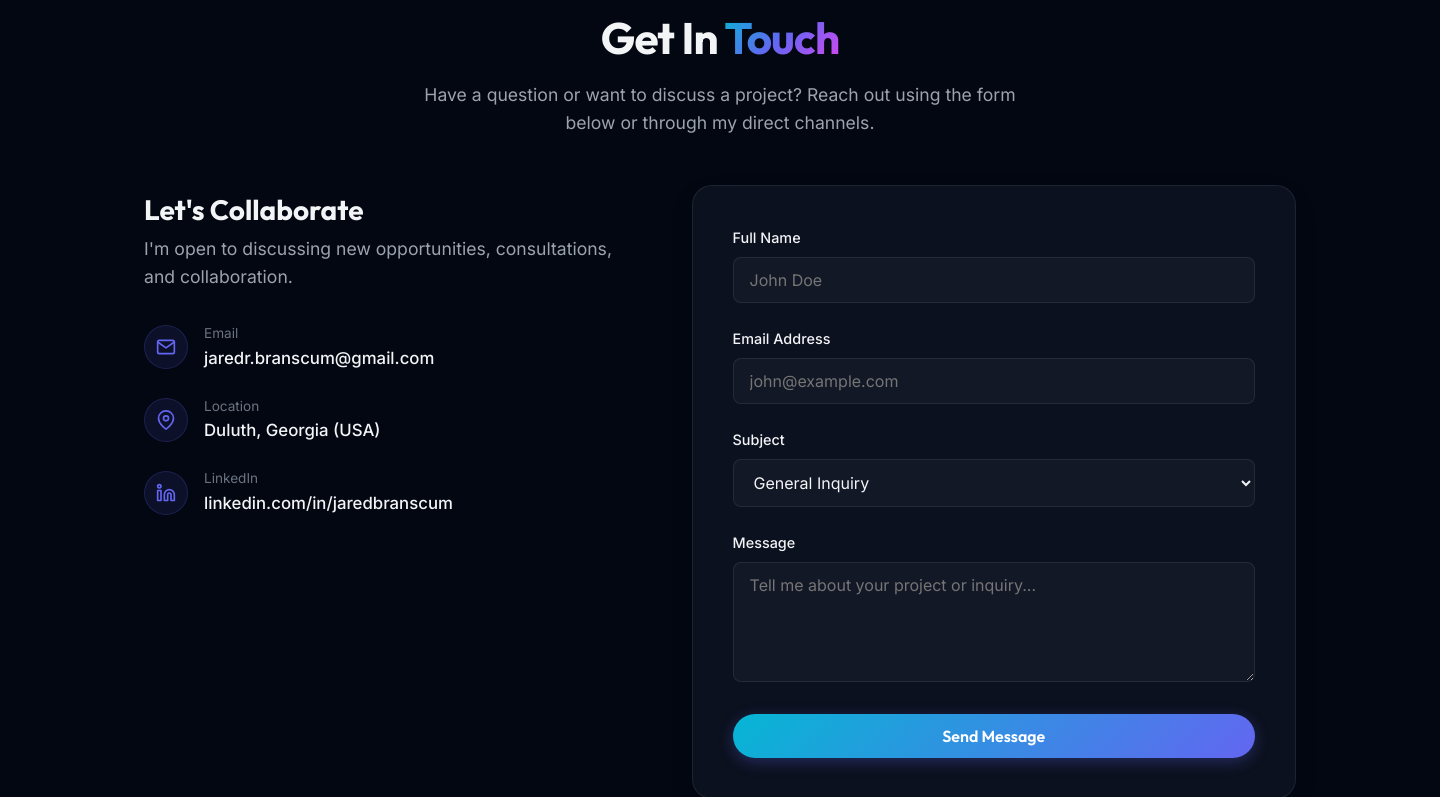
it: Contact Component › handles server error states gracefully
The width and height of the screenshot is (1440, 797).
Type "Jane Doe" into the field with test id "form-input-name" at [994, 280], box 732,257 -> 1255,303
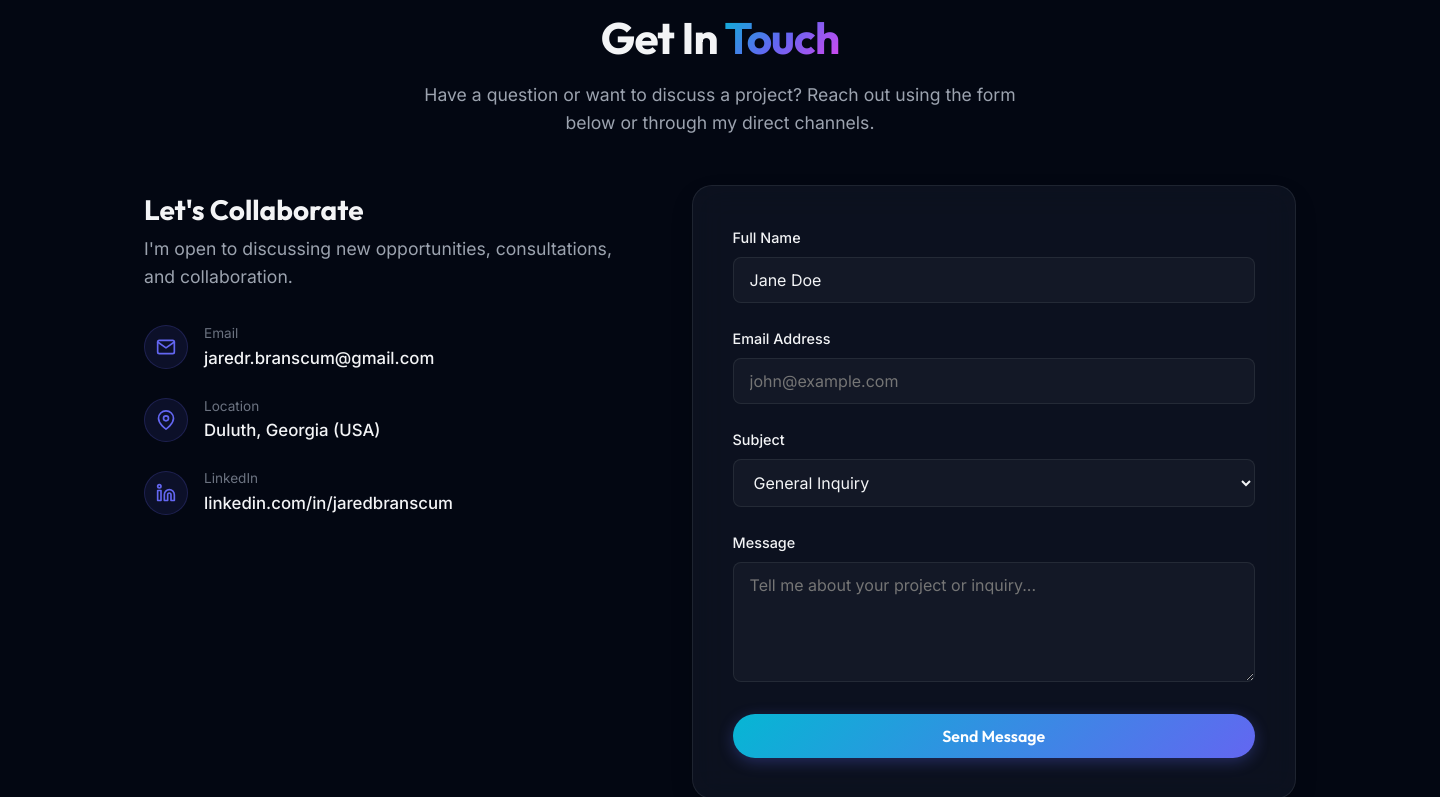
Type "jane@example.com" into the field with test id "form-input-email" at [994, 381], box 732,358 -> 1255,404
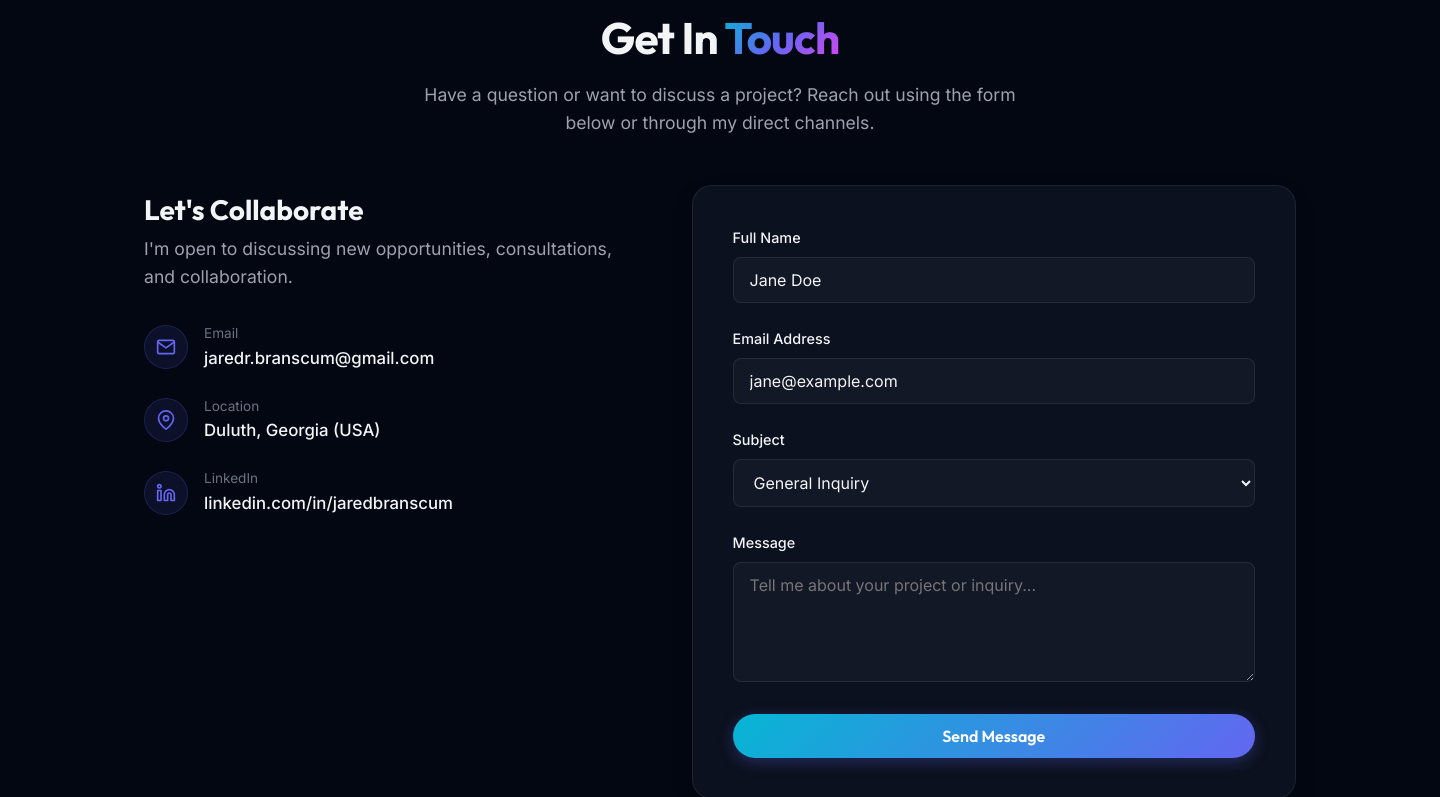
Type "This is a long message to pass validation." into the text box with test id "form-input-message" at [994, 622], box 732,562 -> 1255,682
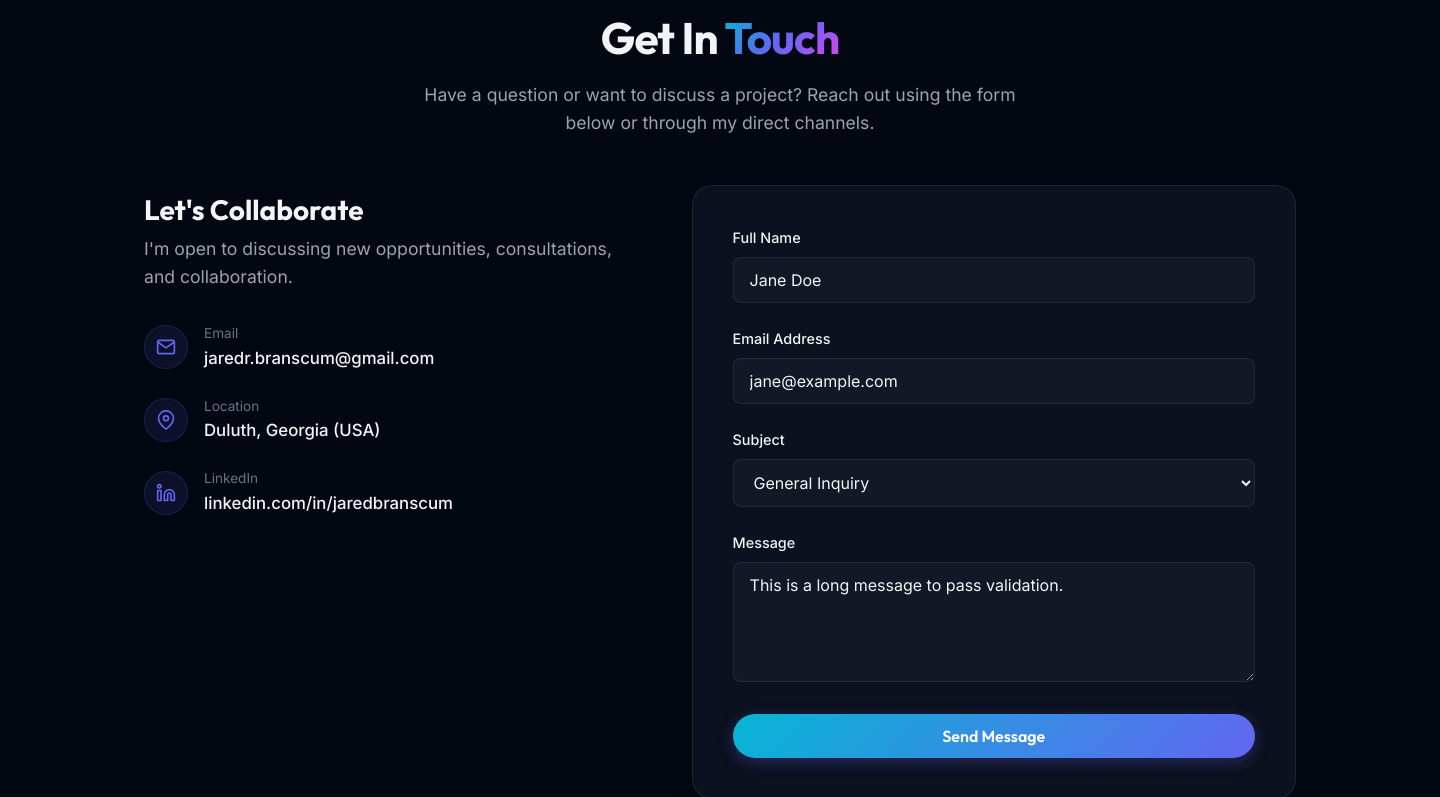
Click the button "Send Message" at [994, 736], box 732,714 -> 1255,758
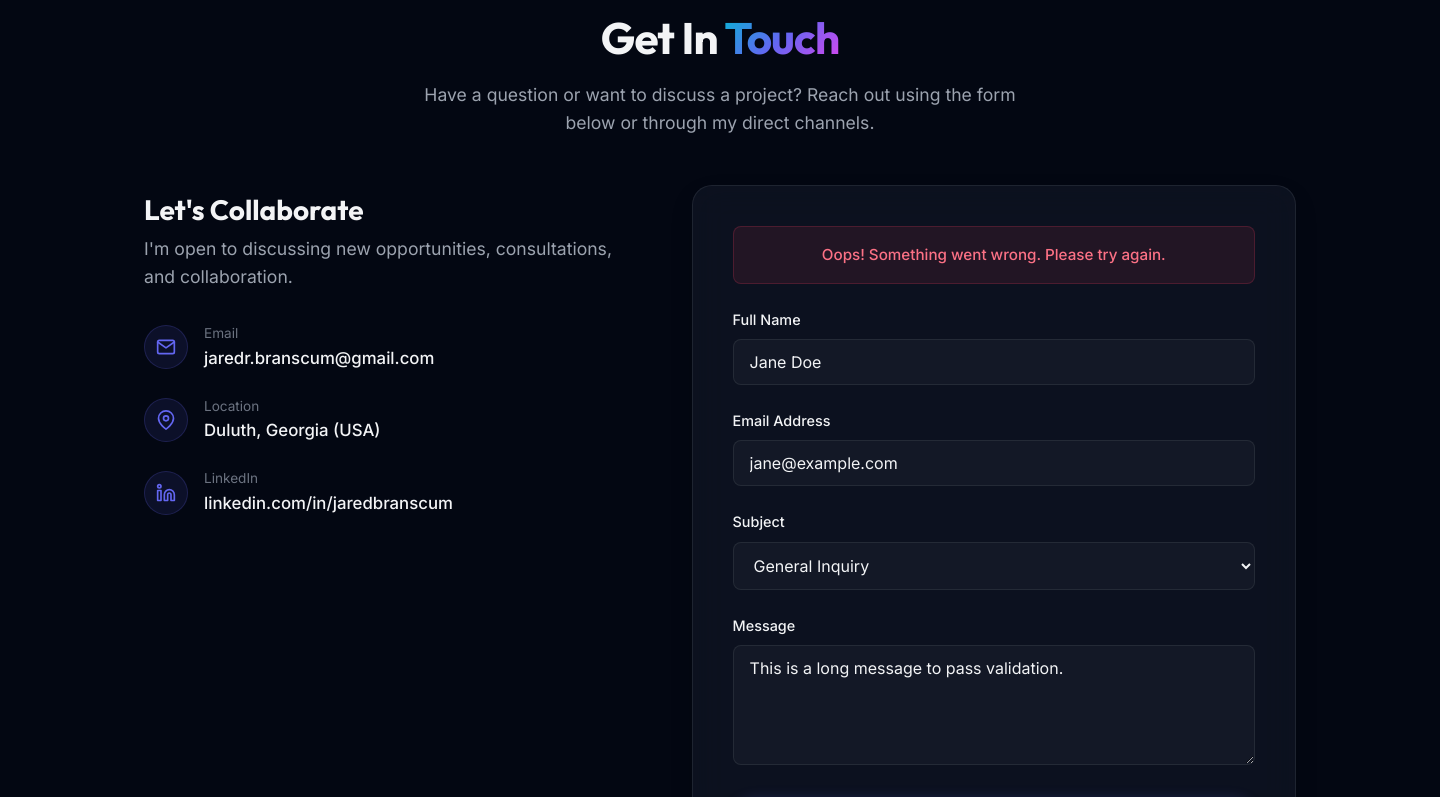
Expected: the text "Oops! Something went wrong. Please try again." is shown, 732,226 -> 1255,284
